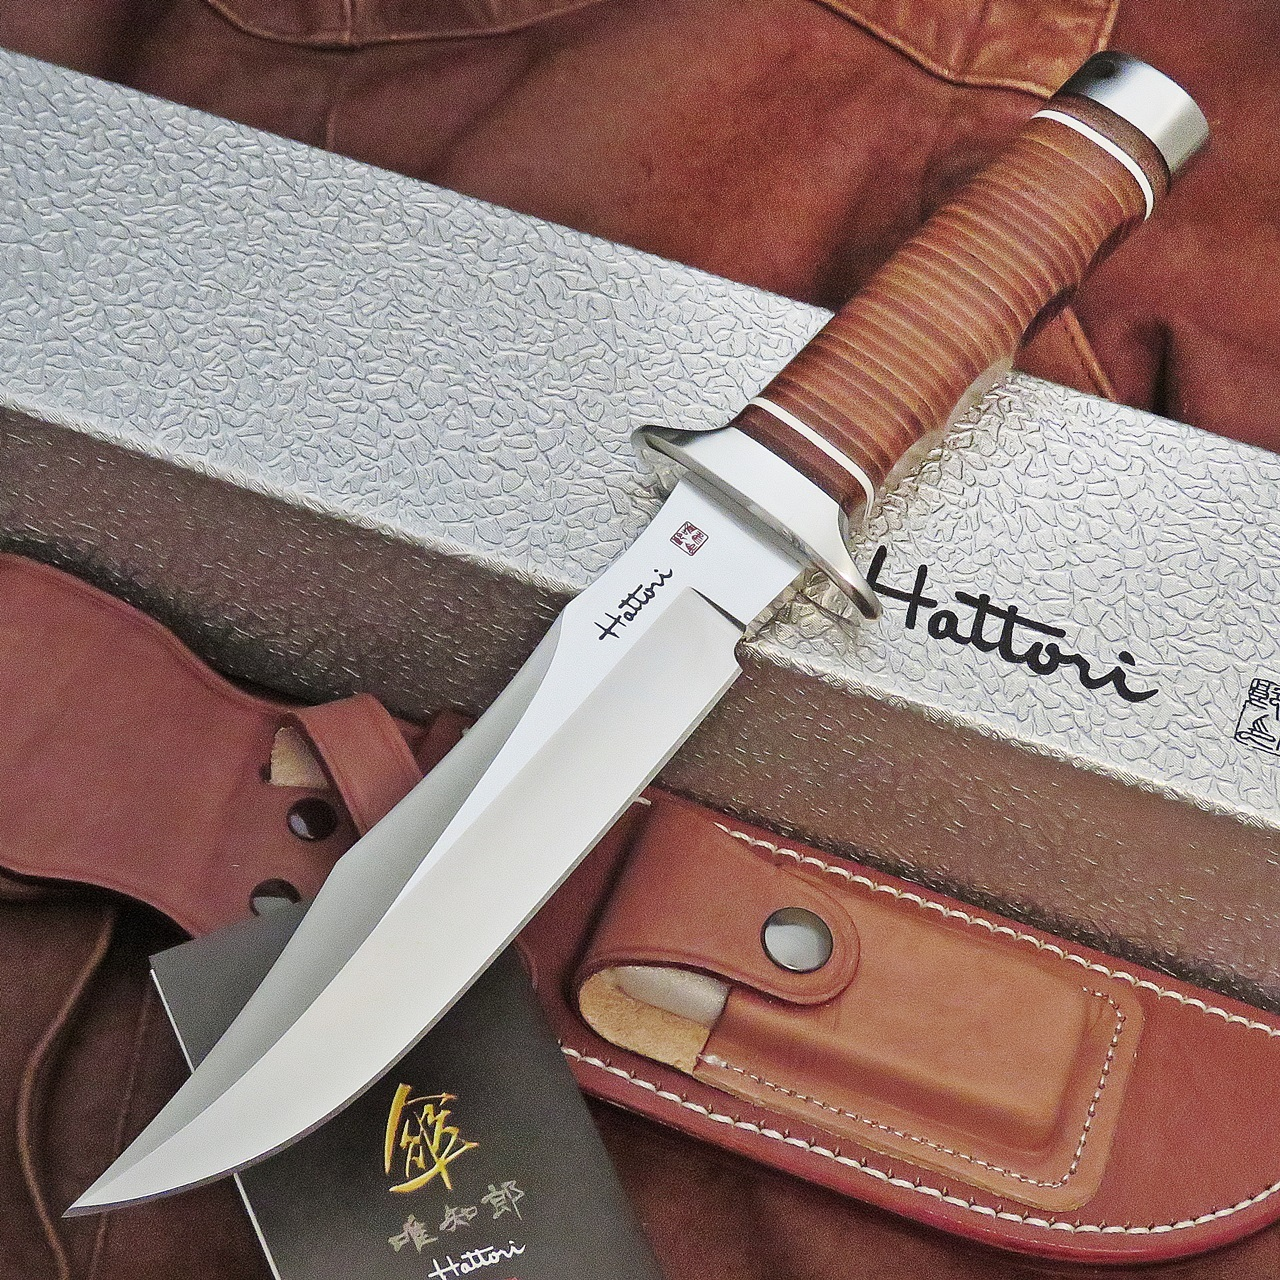knife: (58, 44, 1211, 1224)
